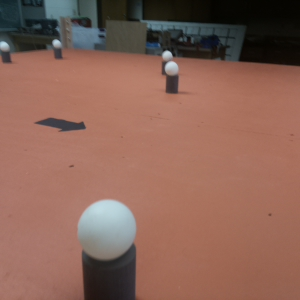obstacle: (77, 199, 140, 300), (165, 61, 178, 95), (1, 42, 12, 64), (51, 41, 63, 58)
